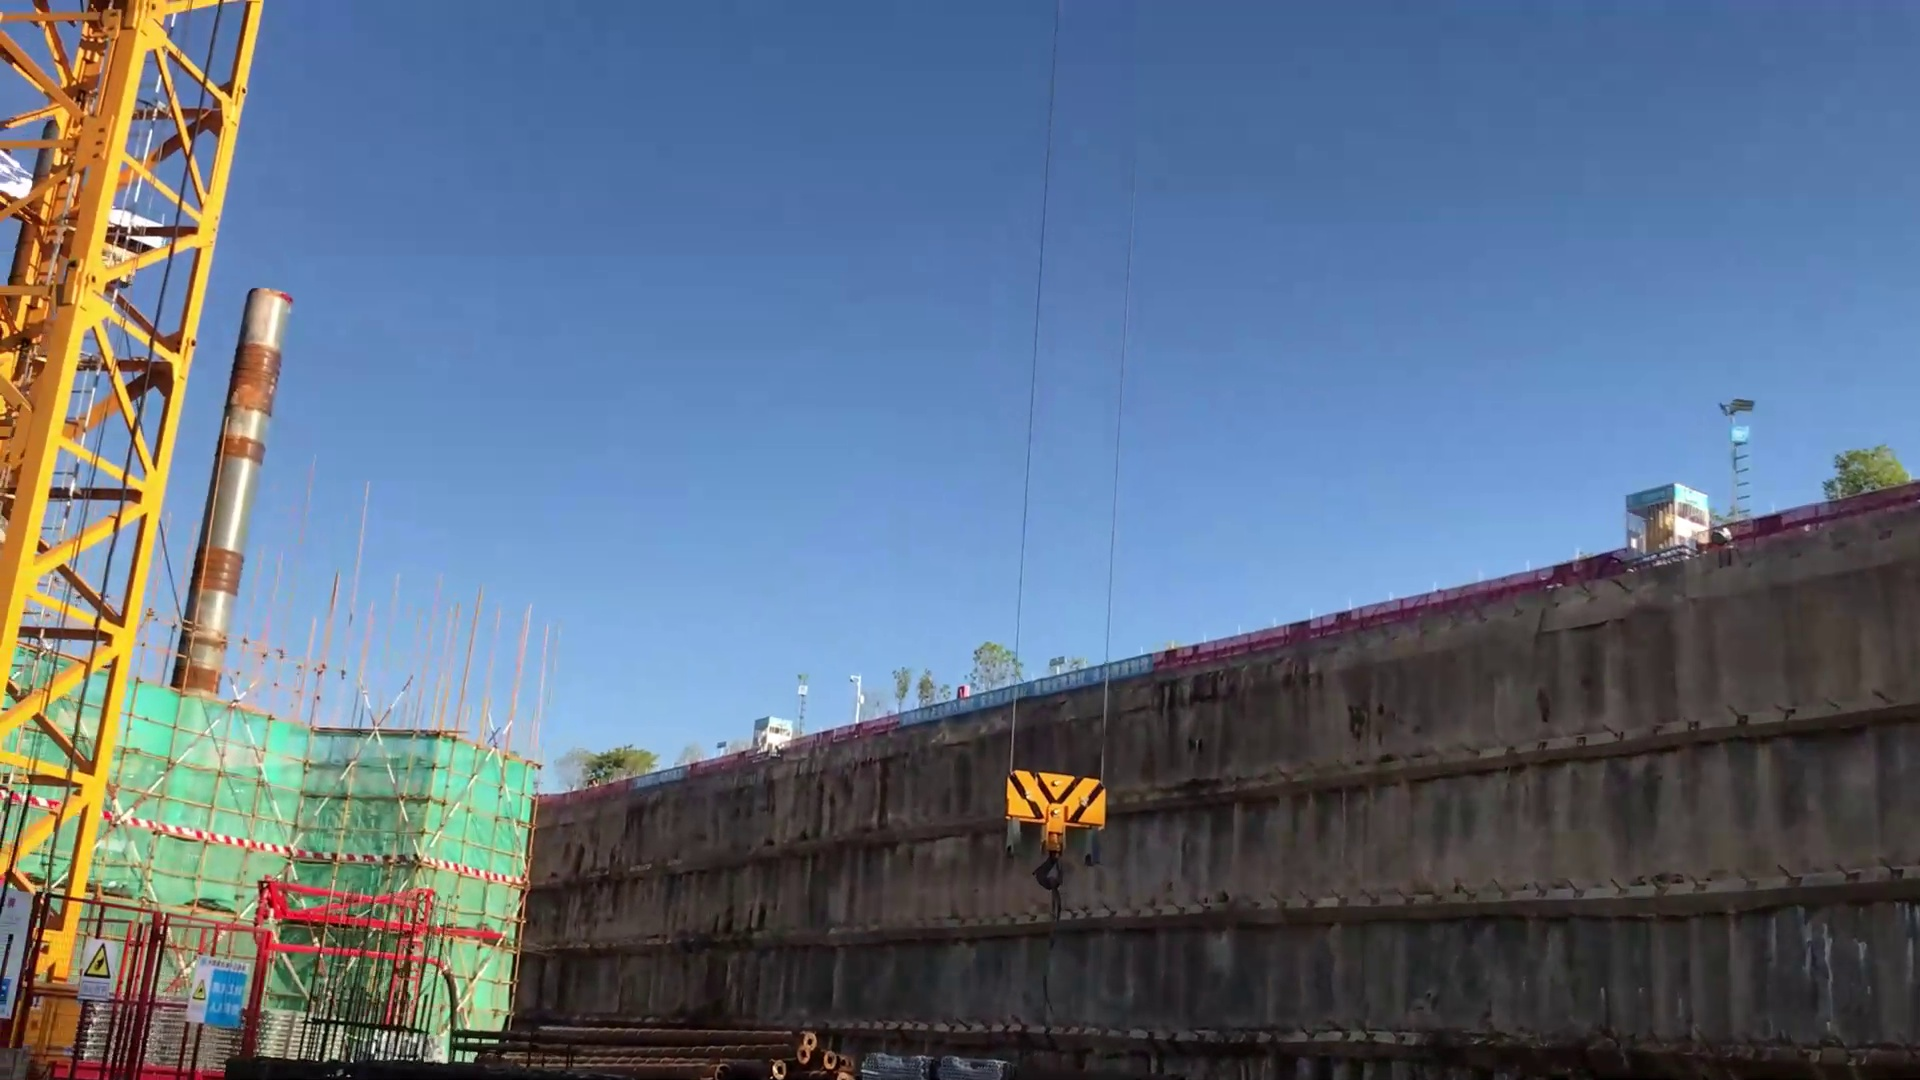hook: (989, 764, 1112, 887)
